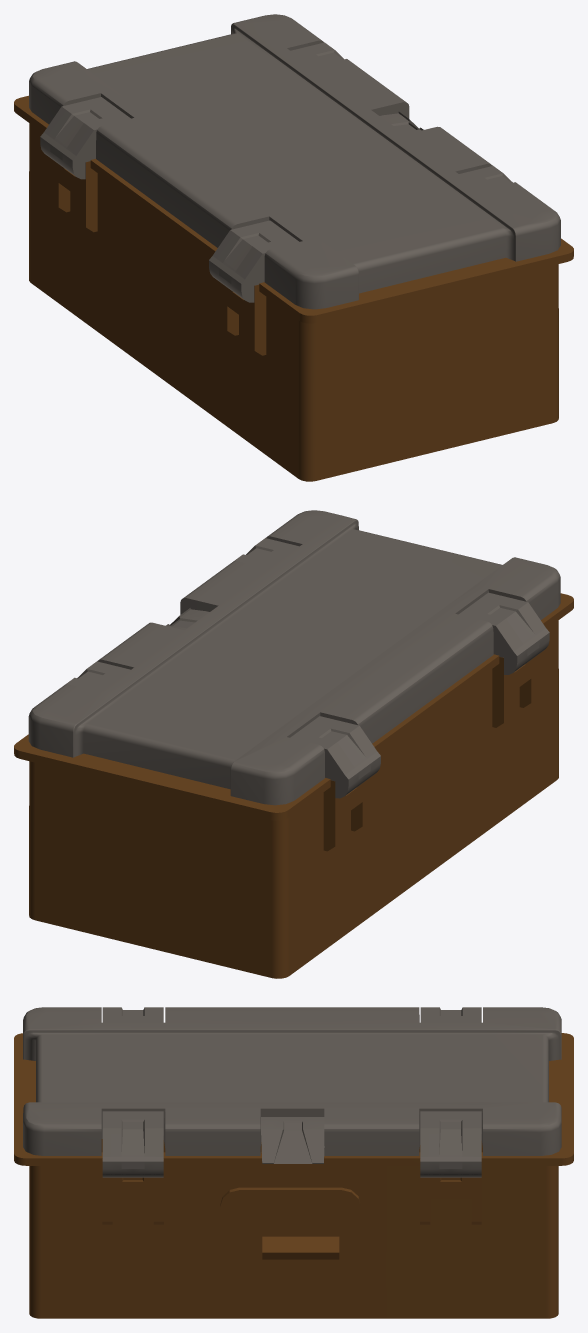
The model's file is CaixaUVArrumada2.FBX.
3 renders of one model, top to bottom at view 1: azimuth 30°, elevation 25°; view 2: azimuth 150°, elevation 25°; view 3: azimuth 270°, elevation 25°, orthographic. The views are drawn at different scales.
Visible parts, largest first — view 1: Base1, Tampa1, Rondana; view 2: Base1, Tampa1, Rondana; view 3: Base1, Tampa1, Rondana.
Boxes of the visible parts, left/top/right/bottom form: Base1: left=14, top=95, right=573, bottom=481; Tampa1: left=29, top=14, right=560, bottom=309; Rondana: left=290, top=42, right=523, bottom=195; Base1: left=14, top=593, right=573, bottom=978; Tampa1: left=28, top=510, right=560, bottom=805; Rondana: left=66, top=538, right=299, bottom=691; Base1: left=14, top=1033, right=573, bottom=1318; Tampa1: left=23, top=1007, right=561, bottom=1163; Rondana: left=102, top=1111, right=481, bottom=1177.
Size of the model in its own units: 4.2 by 2.7 by 7.07.
